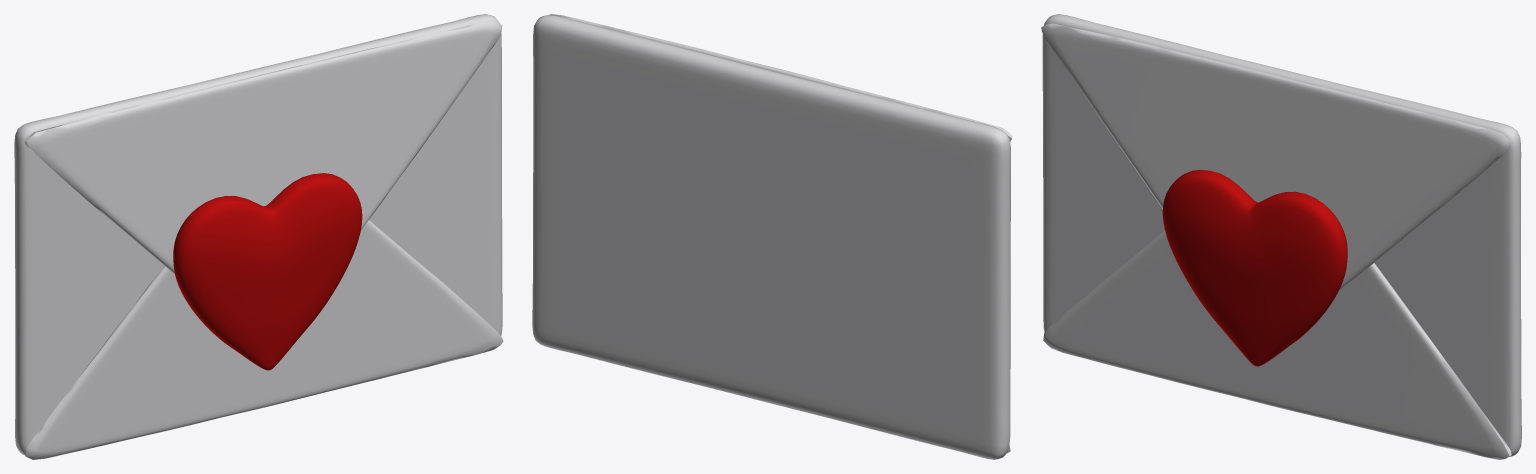
Rendered from envelope-with-heart.FBX.
3 views of the same model, side by side, from view 1: azimuth 30°, elevation 25°; view 2: azimuth 150°, elevation 25°; view 3: azimuth 330°, elevation 25° (orthographic).
Visible parts, largest first — view 1: E2, envelope, E3, Group8879; view 2: envelope, E2; view 3: E2, envelope, E3, Group8879.
Part boxes in pixels (x1,y1,x2,y2): E2: [24, 21, 502, 273]; envelope: [14, 14, 502, 455]; E3: [25, 220, 503, 459]; Group8879: [173, 173, 362, 370]; envelope: [532, 15, 1010, 459]; E2: [549, 14, 1012, 141]; E2: [1041, 23, 1510, 291]; envelope: [1042, 14, 1521, 456]; E3: [1043, 230, 1511, 459]; Group8879: [1162, 169, 1347, 366].
Size of the model in its own units: 36.37 by 24.19 by 4.84.
